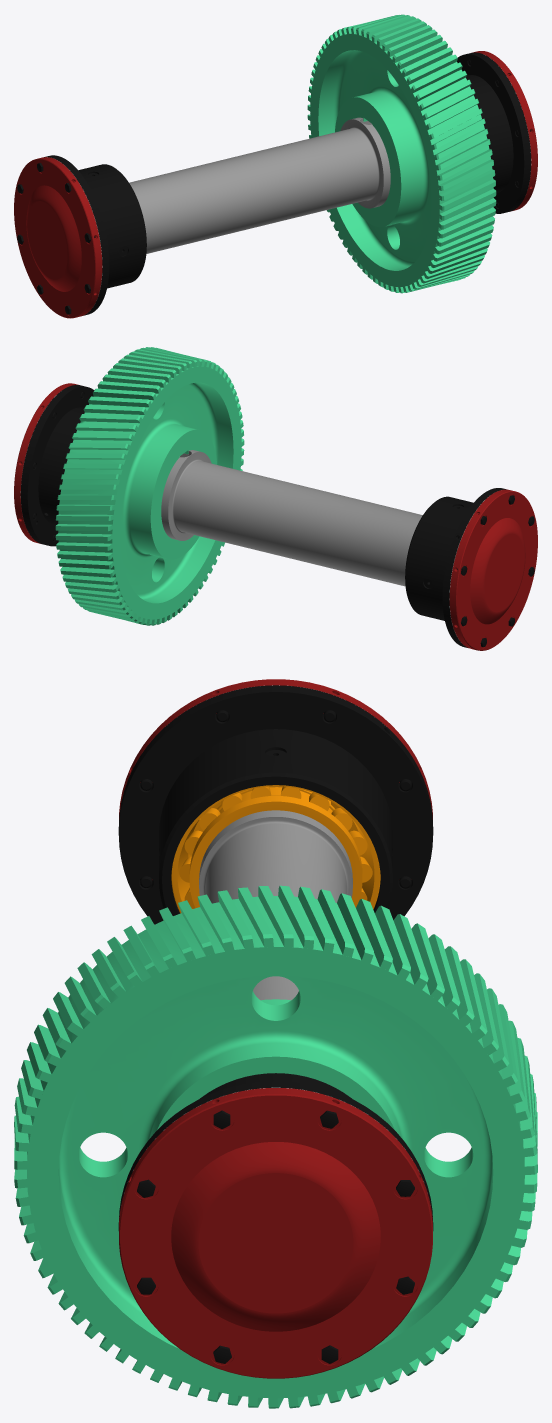
File: 7 val_SB.FBX
3 views of the same model, one above another, from view 1: azimuth 30°, elevation 25°; view 2: azimuth 150°, elevation 25°; view 3: azimuth 270°, elevation 25° (orthographic). The views are drawn at different scales.
Visible parts, largest first — view 1: 2757p10, 2757p33, 2757p045, 2757p36, 2757p37, 2757p38, 2757p57; view 2: 2757p10, 2757p33, 2757p045, 2757p36, 2757p37, 2757p38, 2757p57; view 3: 2757p10, 2757p38, 2757p37, 2757p57, 2757p33, 2757p36, 2757p045.
Boxes of the visible parts, x1,y1,x2,y2 form: 2757p10: [307, 14, 496, 293]; 2757p33: [129, 117, 390, 253]; 2757p045: [14, 157, 102, 318]; 2757p36: [457, 52, 531, 213]; 2757p37: [44, 155, 146, 315]; 2757p38: [471, 51, 537, 210]; 2757p57: [17, 59, 530, 314]; 2757p10: [55, 347, 244, 625]; 2757p33: [161, 450, 422, 586]; 2757p045: [449, 489, 537, 650]; 2757p36: [20, 385, 94, 546]; 2757p37: [405, 488, 506, 647]; 2757p38: [14, 383, 78, 543]; 2757p57: [21, 392, 534, 647]; 2757p10: [14, 885, 537, 1408]; 2757p38: [119, 1088, 432, 1378]; 2757p37: [118, 685, 433, 924]; 2757p57: [137, 710, 414, 1363]; 2757p33: [199, 810, 352, 1000]; 2757p36: [118, 1073, 433, 1230]; 2757p045: [119, 679, 432, 879].
Bounding box in the file's own units: 1645 × 850 × 850.
